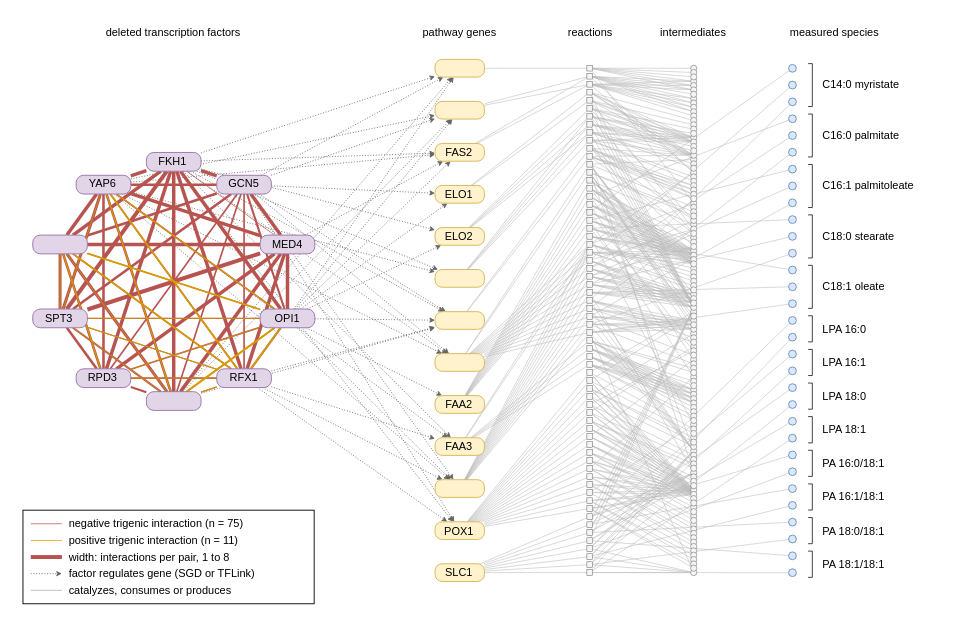
Some shapes in this 961 by 627 pixel diagram are drawn without their labels. The centre of each missing label's shape, as x and y in pixels:
ACC1: [459,67]
ELO3: [459,277]
FAA1: [459,362]
FAA4: [459,488]
FAS1: [459,109]
OLE1: [459,320]
RGR1: [173,400]
TFC7: [59,244]
